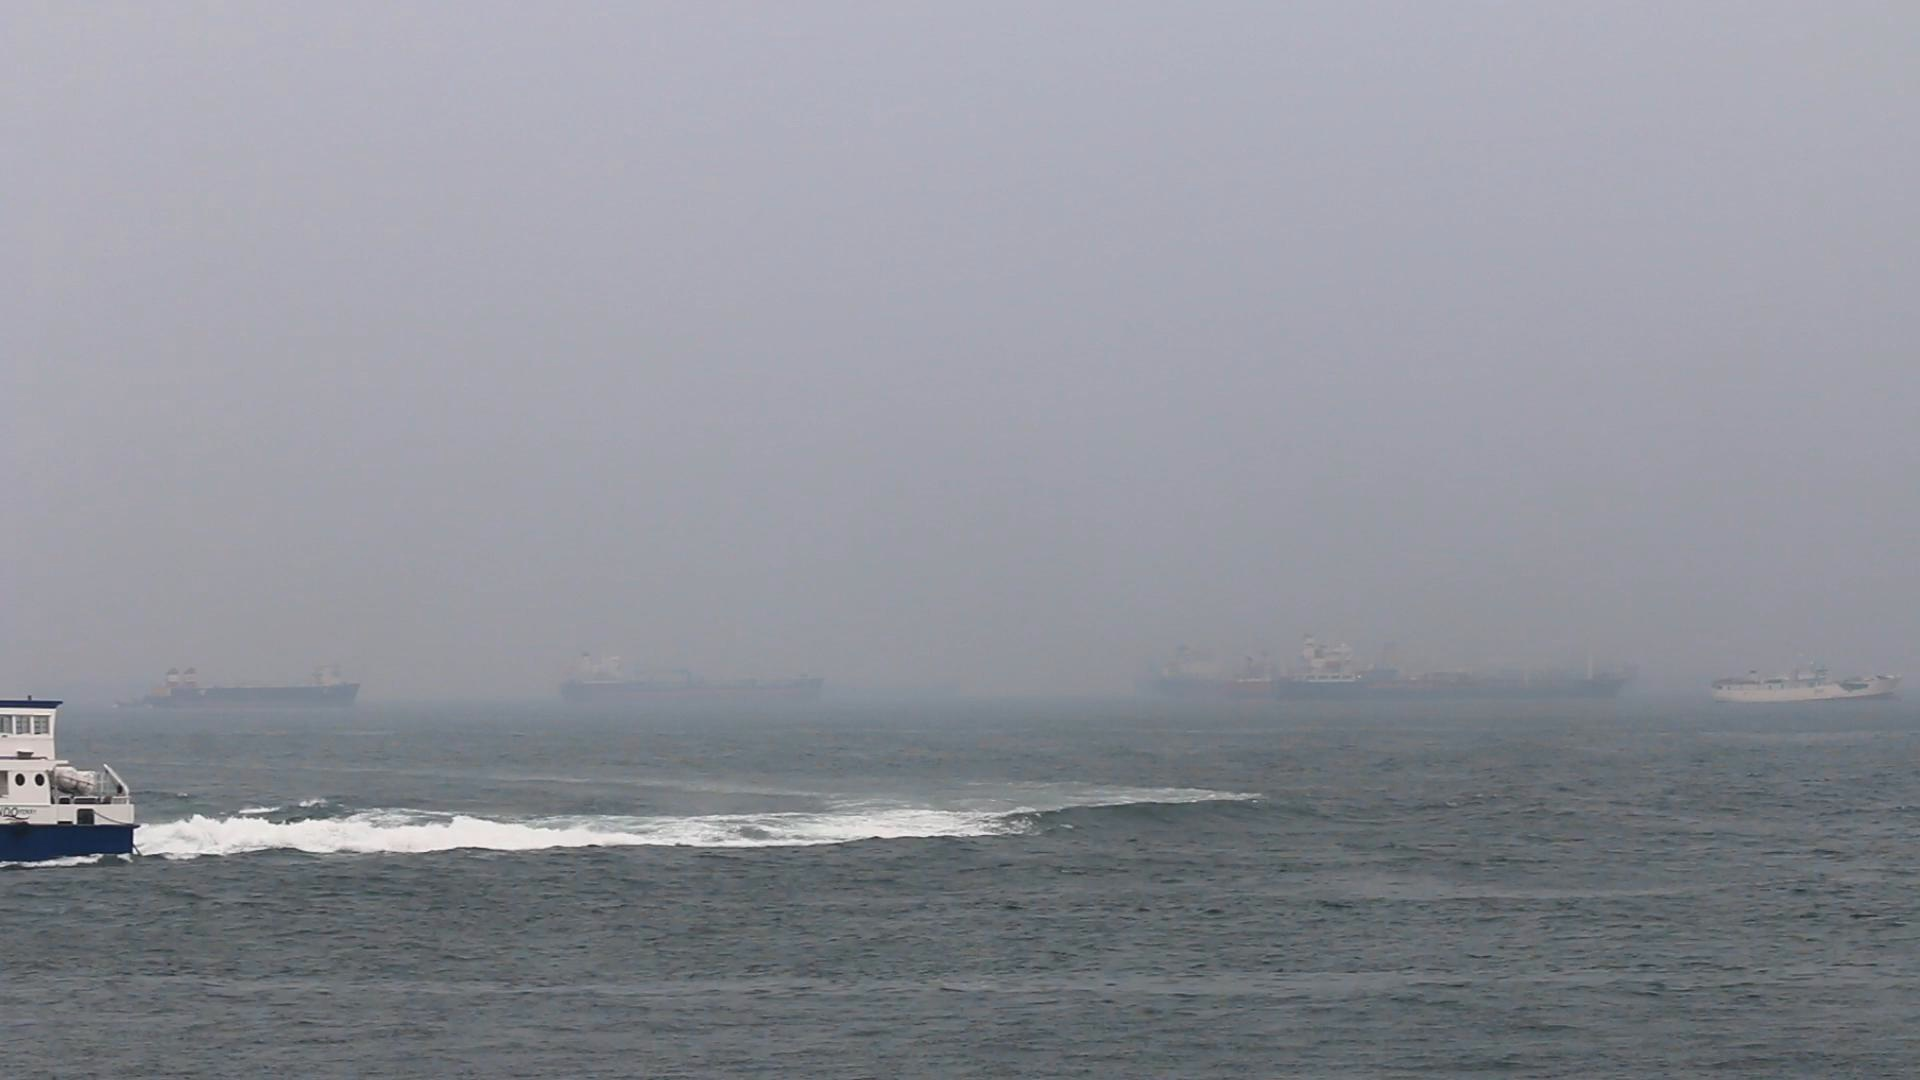Container Ship: (1286, 632, 1629, 709), (558, 650, 832, 712), (156, 665, 367, 711), (1709, 662, 1903, 707), (1138, 645, 1232, 703), (1234, 653, 1280, 704)
